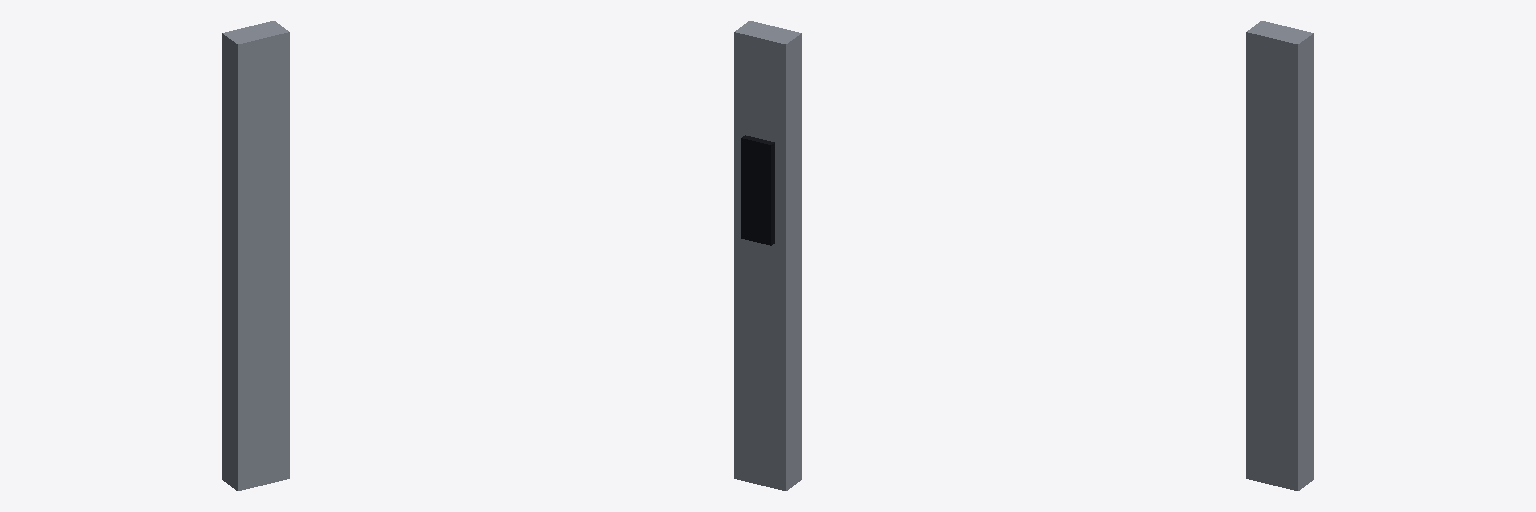
URDF robot description (artmanip_knife_019):
<?xml version='1.0' encoding='utf-8'?>
<robot name="artmanip_knife_019"><link name="link_0"><inertial><mass value="0.029" /><inertia ixx="5.042787591128572e-05" iyy="5.09695666663994e-05" izz="9.484983988235292e-07" ixy="0" ixz="0" iyz="0" /></inertial><visual><geometry><box size="0.017558900801767703 0.009174262842244605 0.1441615072581335" /></geometry><material name="link_0_color"><color rgba=".58 .60 .64 1" /></material></visual><collision><geometry><box size="0.017558900801767703 0.009174262842244605 0.1441615072581335" /></geometry></collision></link><link name="link_1"><inertial><mass value="0.006" /><inertia ixx="5.291502566749087e-07" iyy="5.777655214472265e-07" izz="5.3635317677134e-08" ixy="0" ixz="0" iyz="0" /></inertial><visual><geometry><box size="0.010111903008309159 0.002240547456497227 0.03245428262101939" /></geometry><material name="link_1_color"><color rgba=".12 .13 .15 1" /></material></visual><collision><geometry><box size="0.010111903008309159 0.002240547456497227 0.03245428262101939" /></geometry></collision></link><joint name="slider" type="prismatic"><parent link="link_0" /><child link="link_1" /><origin xyz="0.0 0.005707405149370915 0.023420574090190997" /><axis xyz="0 0 1" /><limit lower="-0.04504480017891102" upper="0.004955199821088982" effort="100" velocity="1" /><dynamics damping="1000" friction="0.001" /></joint></robot>

--- What the picture shows (computed from the rendered views, not written in the file) ---
Views: 3 orthographic renders of the robot side by side, from view 1: azimuth 30°, elevation 25°; view 2: azimuth 150°, elevation 25°; view 3: azimuth 330°, elevation 25°.
Model artmanip_knife_019 with 2 links and 1 joints (1 prismatic), rooted at link_0, posed all joints at 0.
Links seen in each view (by area): view 1: link_0; view 2: link_0, link_1; view 3: link_0.
Boxes of the visible links, x1,y1,x2,y2 form: link_0: (222,21,289,490); link_0: (734,21,801,490); link_1: (741,135,774,245); link_0: (1246,21,1313,490).
Size in the robot's own frame: 0.0176 by 0.0114 by 0.1442 metres.
Geometry: primitives only (box / cylinder / sphere), no mesh files.
